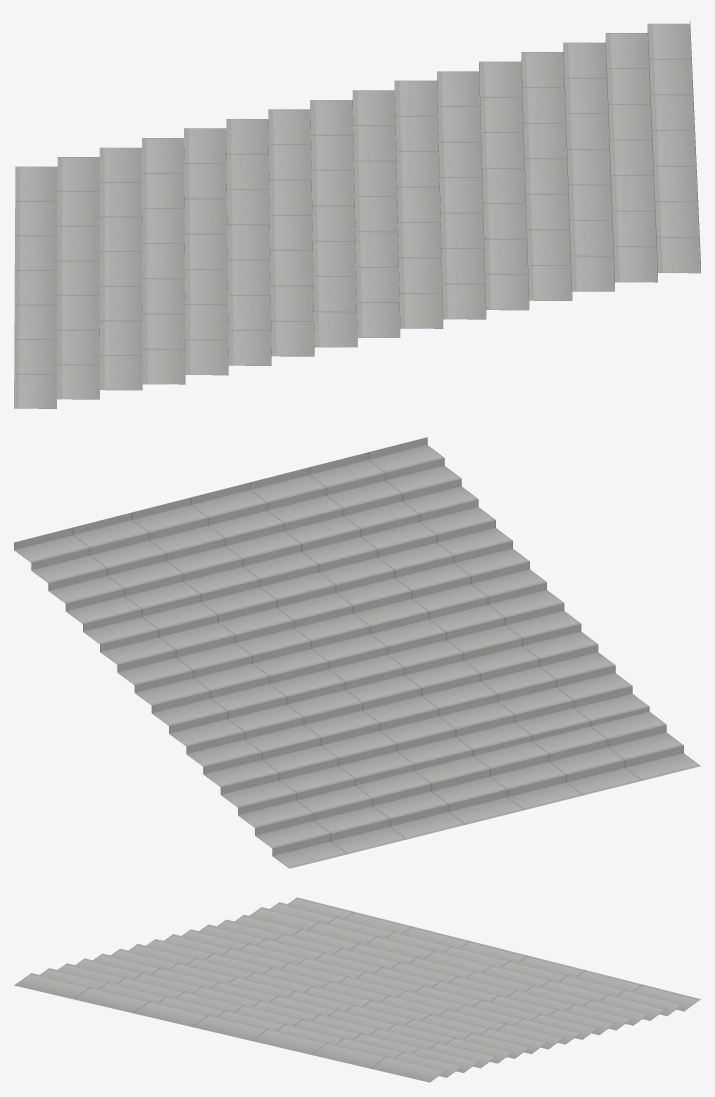
Rendered from kd_stage_136599_19_25.glb.
The picture shows the model from 3 angles, top to bottom: view 1: azimuth 30°, elevation 25°; view 2: azimuth 150°, elevation 25°; view 3: azimuth 270°, elevation 25°; orthographic projection. The views are drawn at different scales.
Parts seen in each view (by area): view 1: kd_stage_136599_19_25; view 2: kd_stage_136599_19_25; view 3: kd_stage_136599_19_25.
Boxes of the visible parts, bbox=[...] form: kd_stage_136599_19_25: bbox=[14, 20, 700, 408]; kd_stage_136599_19_25: bbox=[14, 437, 700, 868]; kd_stage_136599_19_25: bbox=[14, 897, 700, 1082].
Bounding box in the file's own units: 12.27 × 2.36 × 11.97.
1 material, 1 textured.
